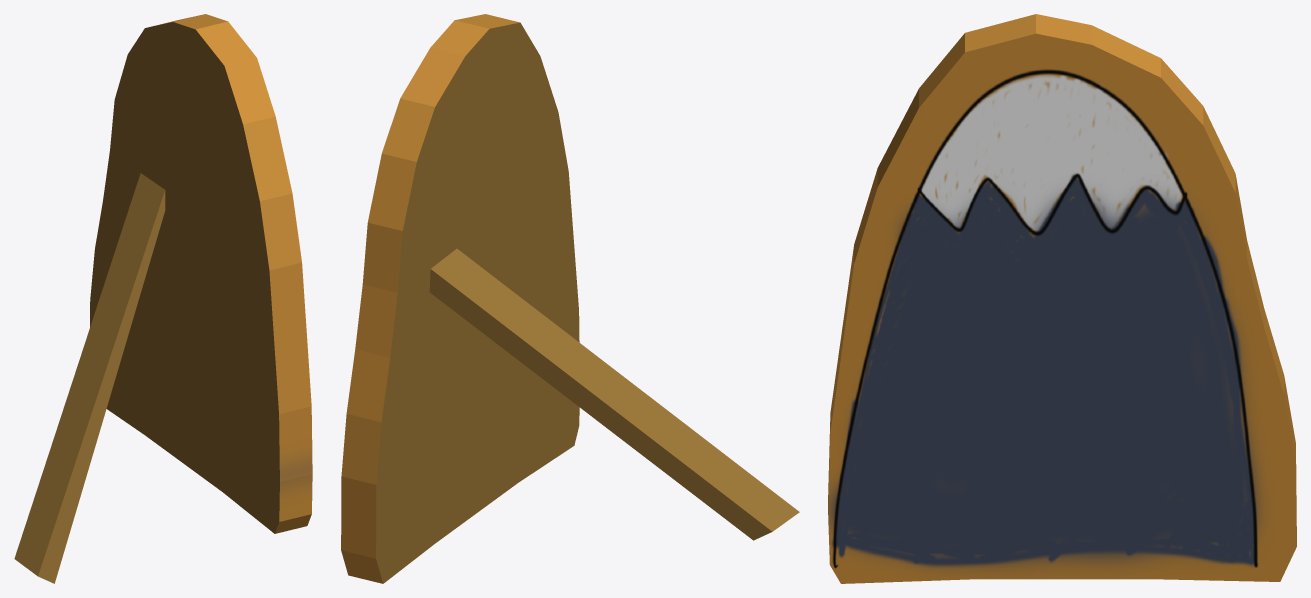
The model's file is Mountain1(1).fbx.
3 views of the same model, side by side, from view 1: azimuth 30°, elevation 25°; view 2: azimuth 150°, elevation 25°; view 3: azimuth 270°, elevation 25° (orthographic). The views are drawn at different scales.
Visible parts, largest first — view 1: Plane; view 2: Plane; view 3: Plane.
Part boxes in pixels (left/top/right/bottom): Plane: left=14, top=14, right=312, bottom=583; Plane: left=341, top=14, right=799, bottom=583; Plane: left=828, top=14, right=1296, bottom=583.
Bounding box in the file's own units: 117 × 199 × 150.
2 materials, 1 textured.
